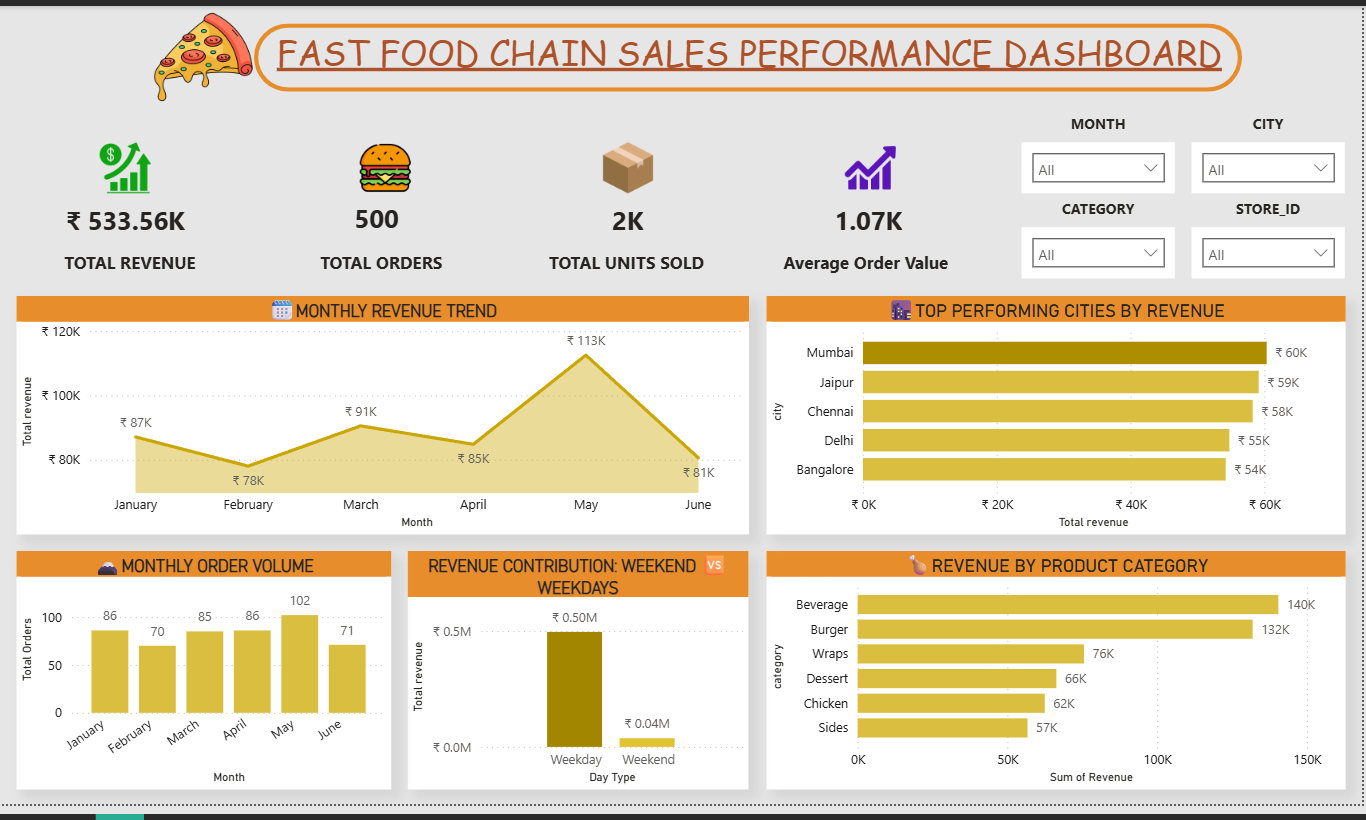

This screenshot's page, from the dashboard's own definition file:
{"tool":"powerbi","page":{"name":"OVERVIEW","canvas":[1280,750],"ordinal":0},"visuals":[{"type":"group","id":"g1","title":"Group 2","box":[960,96,304,160],"z":0},{"type":"textbox","box":[1120,96,144,32],"z":0,"group":"g1"},{"type":"slicer","fields":{"Values":["orders.order_date.Variation.Date Hierarchy.Month"]},"box":[960,128,144,48],"z":0,"group":"g5"},{"type":"kpi","fields":{"Indicator":["order_items.Total revenue"],"TrendLine":["orders.order_date.Variation.Date Hierarchy.Year"]},"box":[16,144,204.4,112],"z":0,"group":"g6"},{"type":"textbox","box":[704,224,224,32],"z":0,"group":"g3"},{"type":"image","box":[128,0,128,96],"z":1000},{"type":"textbox","box":[960,96,144,32],"z":1000,"group":"g1"},{"type":"slicer","fields":{"Values":["stores.city"]},"box":[1120,128,144,48],"z":1000,"group":"g5"},{"type":"kpi","fields":{"Indicator":["order_items.Total Orders"],"TrendLine":["orders.order_date.Variation.Date Hierarchy.Year"]},"box":[251.9,144,204.4,96],"z":1000,"group":"g7"},{"type":"textbox","box":[1120,176,144,32],"z":2000,"group":"g1"},{"type":"slicer","fields":{"Values":["order_items.category"]},"box":[960,208,144,48],"z":2000,"group":"g5"},{"type":"group","id":"g2","title":"Group 3","box":[16,272,1248,464],"z":2000},{"type":"group","id":"g3","title":"Group 8","box":[16,128,912,128],"z":3000},{"type":"cardVisual","fields":{"Data":["order_items.Total Items Sold"]},"box":[487.7,160,204.4,80],"z":3000,"group":"g8"},{"type":"textbox","box":[960,176,144,32],"z":3000,"group":"g1"},{"type":"slicer","fields":{"Values":["stores.store_id"]},"box":[1120,208,144,48],"z":3000,"group":"g5"},{"type":"textbox","box":[256,16,928,64],"z":4000},{"type":"group","id":"g4","title":"Group 7","box":[16,128,912,128],"z":4000,"group":"g3"},{"type":"image","box":[707.9,128,220.1,48],"z":4000,"group":"g4"},{"type":"group","id":"g5","title":"Group 1","box":[960,128,304,128],"z":4000,"group":"g1"},{"type":"shape","box":[240,16,928,64],"z":5000},{"type":"cardVisual","fields":{"Data":["order_items.AOV"]},"box":[704,144,224,112],"z":5000,"group":"g4"},{"type":"image","box":[47.4,128,141.5,48],"z":6000,"group":"g6"},{"type":"textbox","box":[251.9,224,204.4,32],"z":7000,"group":"g7"},{"type":"textbox","box":[487.7,224,188.7,32],"z":8000,"group":"g8"},{"type":"textbox","box":[16,224,204.4,32],"z":9000,"group":"g6"},{"type":"lineChart","title":"🗓️MONTHLY REVENUE TREND","fields":{"Y":["order_items.Total revenue"],"Category":["orders.order_date.Variation.Date Hierarchy.Month"]},"box":[16,272,688,224],"z":9000,"group":"g2"},{"type":"image","box":[251.9,128,220.1,48],"z":10000,"group":"g7"},{"type":"image","box":[487.7,128,204.4,48],"z":11000,"group":"g8"},{"type":"clusteredBarChart","title":"🍗REVENUE BY PRODUCT CATEGORY","fields":{"Category":["order_items.category"],"Y":["Sum(order_items.Revenue)"]},"box":[720,512,544,224],"z":13000,"group":"g2"},{"type":"clusteredBarChart","title":"🌆TOP PERFORMING CITIES BY REVENUE","fields":{"Category":["stores.city"],"Y":["order_items.Total revenue"]},"box":[720,272,544,224],"z":14000,"group":"g2"},{"type":"group","id":"g6","title":"Group 4","box":[16,128,204.4,128],"z":14001,"group":"g7"},{"type":"group","id":"g7","title":"Group 5","box":[16,128,456,128],"z":14002,"group":"g8"},{"type":"group","id":"g8","title":"Group 6","box":[16,128,676.1,128],"z":14003,"group":"g4"},{"type":"columnChart","title":"REVENUE CONTRIBUTION: WEEKEND 🆚 WEEKDAYS","fields":{"Category":["orders.Day Type"],"Y":["order_items.Total revenue"]},"box":[384,512,320,224],"z":15000,"group":"g2"},{"type":"columnChart","title":"🗻MONTHLY ORDER VOLUME","fields":{"Y":["order_items.Total Orders"],"Category":["orders.order_date.Variation.Date Hierarchy.Month"]},"box":[16,512,352,224],"z":16000,"group":"g2"}]}

Visuals, with their boxes in screenshot pixels (x1, y1, x2, y2), scaled from the page's 1280x750 canvas onto the 1366x820 screenshot:
"Group 2" group: left=1024, top=105, right=1349, bottom=280
textbox: left=1195, top=105, right=1349, bottom=140
slicer - orders.order_date.Variation.Date Hierarchy.Month: left=1024, top=140, right=1178, bottom=192
kpi - order_items.Total revenue x orders.order_date.Variation.Date Hierarchy.Year: left=17, top=157, right=235, bottom=280
textbox: left=751, top=245, right=990, bottom=280
image: left=137, top=0, right=273, bottom=105
textbox: left=1024, top=105, right=1178, bottom=140
slicer - stores.city: left=1195, top=140, right=1349, bottom=192
kpi - order_items.Total Orders x orders.order_date.Variation.Date Hierarchy.Year: left=269, top=157, right=487, bottom=262
textbox: left=1195, top=192, right=1349, bottom=227
slicer - order_items.category: left=1024, top=227, right=1178, bottom=280
"Group 3" group: left=17, top=297, right=1349, bottom=805
"Group 8" group: left=17, top=140, right=990, bottom=280
cardVisual - order_items.Total Items Sold: left=520, top=175, right=739, bottom=262
textbox: left=1024, top=192, right=1178, bottom=227
slicer - stores.store_id: left=1195, top=227, right=1349, bottom=280
textbox: left=273, top=17, right=1264, bottom=87
"Group 7" group: left=17, top=140, right=990, bottom=280
image: left=755, top=140, right=990, bottom=192
"Group 1" group: left=1024, top=140, right=1349, bottom=280
shape: left=256, top=17, right=1246, bottom=87
cardVisual - order_items.AOV: left=751, top=157, right=990, bottom=280
image: left=51, top=140, right=202, bottom=192
textbox: left=269, top=245, right=487, bottom=280
textbox: left=520, top=245, right=722, bottom=280
textbox: left=17, top=245, right=235, bottom=280
"🗓️MONTHLY REVENUE TREND" lineChart: left=17, top=297, right=751, bottom=542
image: left=269, top=140, right=504, bottom=192
image: left=520, top=140, right=739, bottom=192
"🍗REVENUE BY PRODUCT CATEGORY" clusteredBarChart: left=768, top=560, right=1349, bottom=805
"🌆TOP PERFORMING CITIES BY REVENUE" clusteredBarChart: left=768, top=297, right=1349, bottom=542
"Group 4" group: left=17, top=140, right=235, bottom=280
"Group 5" group: left=17, top=140, right=504, bottom=280
"Group 6" group: left=17, top=140, right=739, bottom=280
"REVENUE CONTRIBUTION: WEEKEND 🆚 WEEKDAYS" columnChart: left=410, top=560, right=751, bottom=805
"🗻MONTHLY ORDER VOLUME" columnChart: left=17, top=560, right=393, bottom=805
